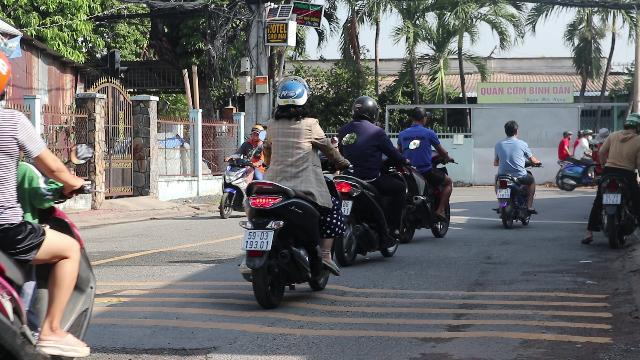helmet: (272, 78, 312, 121), (350, 94, 380, 124), (621, 113, 639, 133)
licenseplate: (244, 230, 272, 250), (604, 194, 620, 204), (496, 188, 509, 197)
motorcyclist: (236, 77, 340, 306), (332, 93, 406, 265), (396, 106, 454, 242), (585, 112, 639, 246), (489, 119, 536, 228)
nohelmet: (408, 106, 428, 126), (502, 119, 520, 137)
